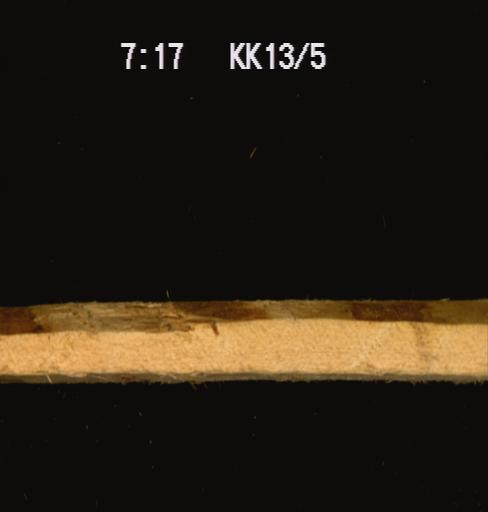wave: (1, 294, 487, 338), (0, 362, 485, 390)
